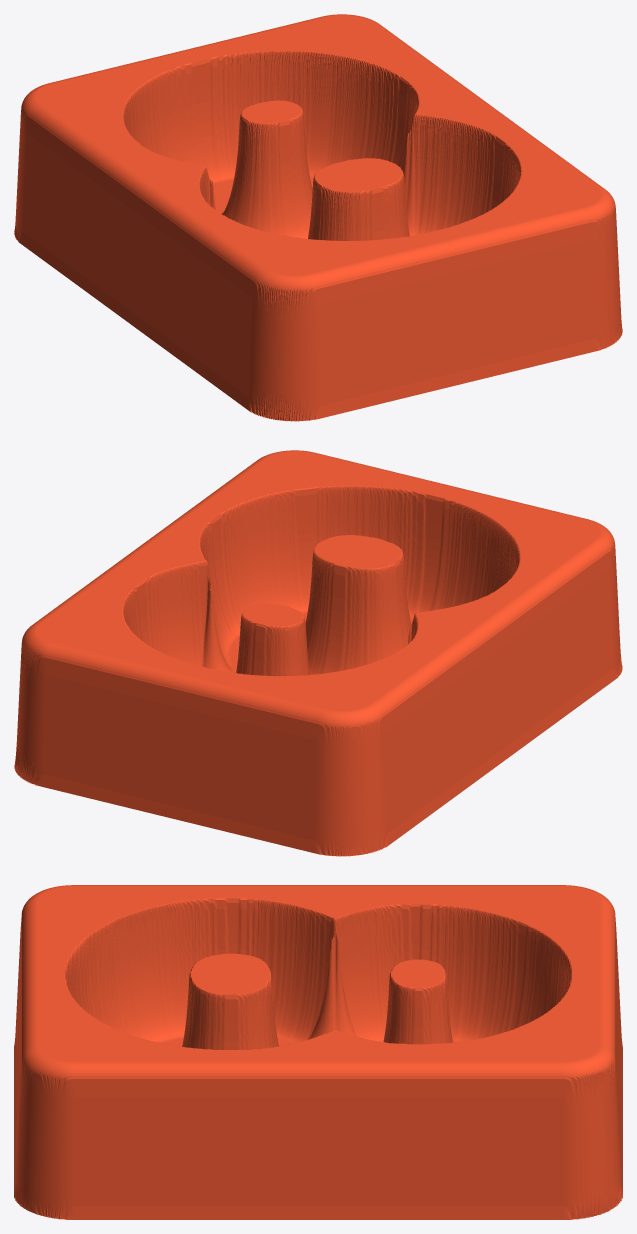
File: mold.glb
3 renders of one model, top to bottom at view 1: azimuth 30°, elevation 25°; view 2: azimuth 150°, elevation 25°; view 3: azimuth 270°, elevation 25°, orthographic. The views are drawn at different scales.
Parts seen in each view (by area): view 1: geometry_0; view 2: geometry_0; view 3: geometry_0.
Part boxes in pixels (left/top/right/bottom): geometry_0: left=14, top=14, right=622, bottom=421; geometry_0: left=14, top=450, right=622, bottom=856; geometry_0: left=14, top=885, right=622, bottom=1219.
Size of the model in its own units: 0.07 by 0.0248 by 0.0924.
